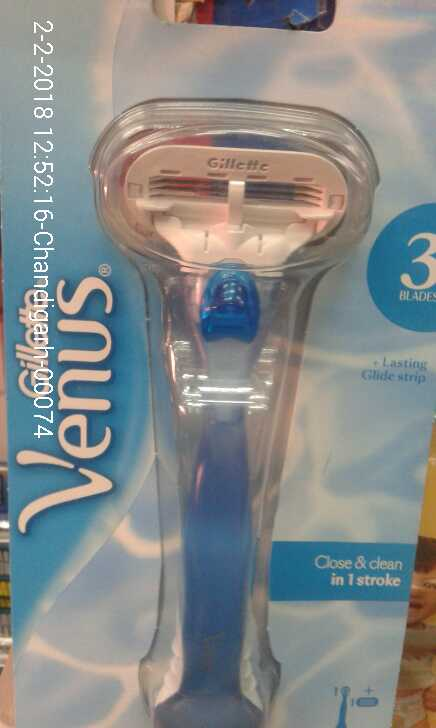venus: (89, 97, 382, 726)
